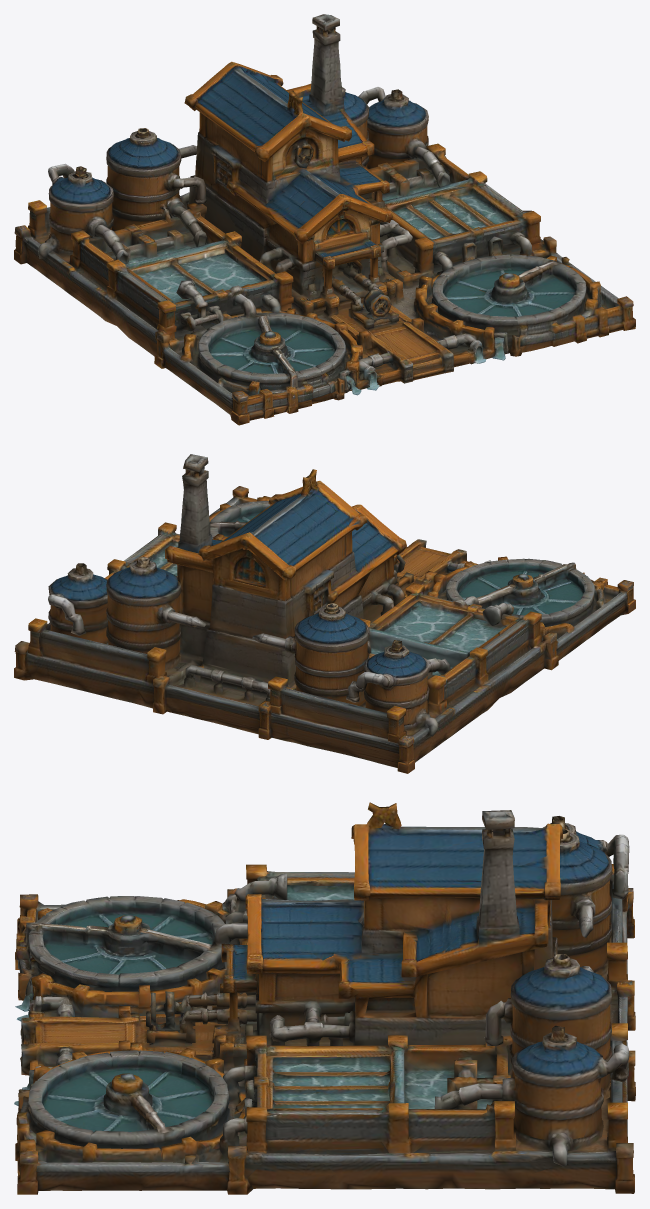
Rendered from waterworks_stage2.glb.
3 renders of one model, top to bottom at view 1: azimuth 30°, elevation 25°; view 2: azimuth 150°, elevation 25°; view 3: azimuth 270°, elevation 25°, orthographic. The views are drawn at different scales.
Visible parts, largest first — view 1: tripo_node_c1dc0ec3-7697-43df-a39b-66ca68f6e761; view 2: tripo_node_c1dc0ec3-7697-43df-a39b-66ca68f6e761; view 3: tripo_node_c1dc0ec3-7697-43df-a39b-66ca68f6e761.
Part boxes in pixels (x1=…): tripo_node_c1dc0ec3-7697-43df-a39b-66ca68f6e761: x1=14, y1=14, x2=635, y2=425; tripo_node_c1dc0ec3-7697-43df-a39b-66ca68f6e761: x1=14, y1=454, x2=635, y2=773; tripo_node_c1dc0ec3-7697-43df-a39b-66ca68f6e761: x1=14, y1=802, x2=635, y2=1194.
Size of the model in its own units: 1 by 0.5162 by 0.9922.
Materials: 1 (1 with a texture image).
